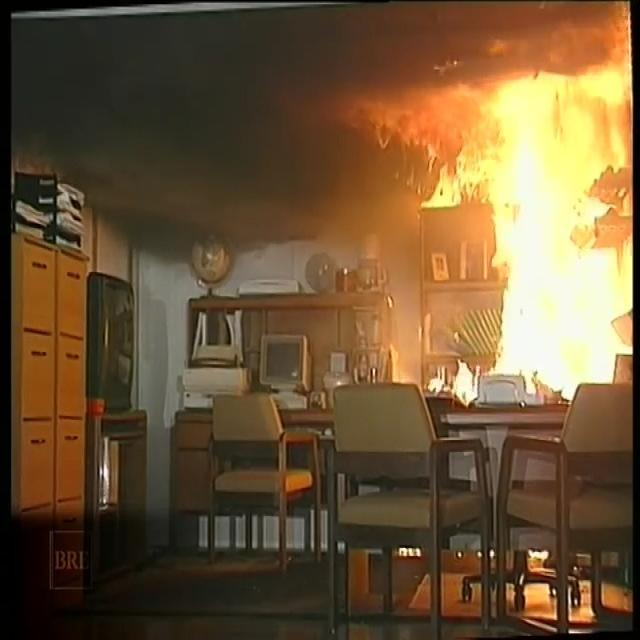Fire: (442, 89, 640, 412)
